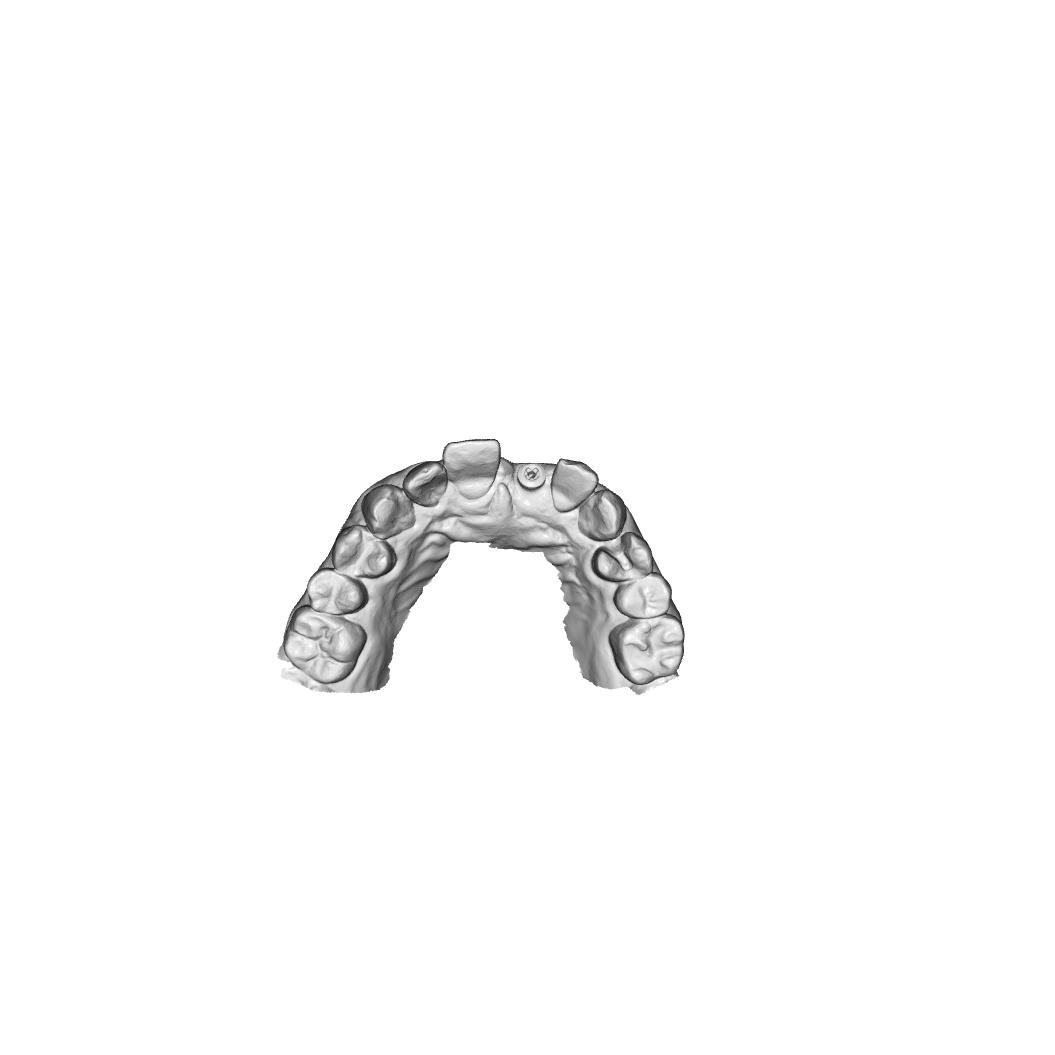canine: (360, 483, 417, 540), (577, 488, 629, 543)
implant_plus: (516, 463, 547, 491)
incisor: (442, 437, 502, 500), (550, 457, 600, 514), (402, 460, 450, 509)
inlay: (596, 531, 645, 575)
molar: (282, 604, 369, 685), (609, 618, 686, 683)
premolar: (330, 524, 398, 579), (305, 567, 370, 616), (612, 572, 673, 619)
